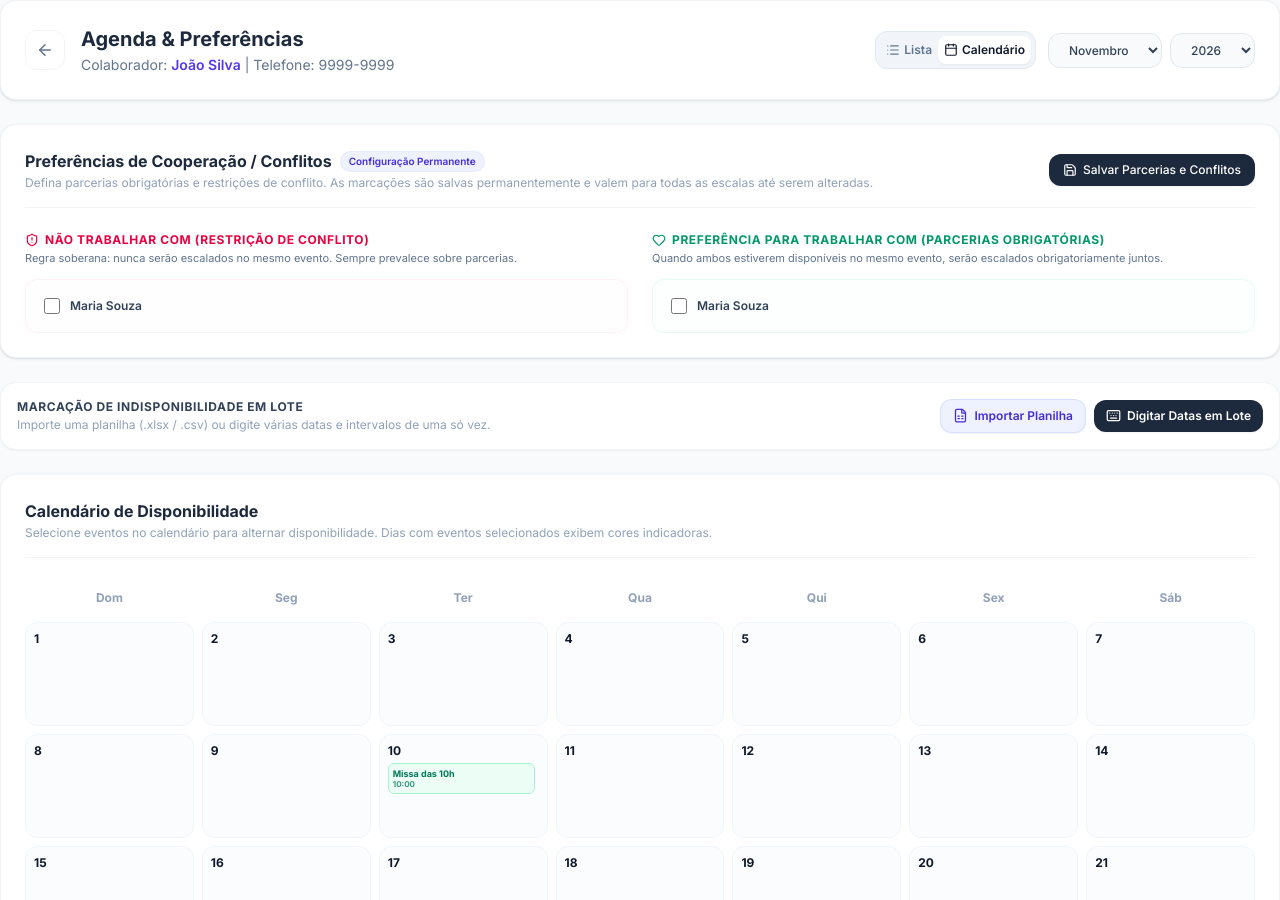
DisponibilidadeColaborador Component › deve permitir cancelar o modal de lote sem alterar as indisponibilidades
This screenshot has width=1280, height=900.
Step 1. Click the button "Digitar Datas em Lote" → (1178, 416), box [1094,400,1263,432]
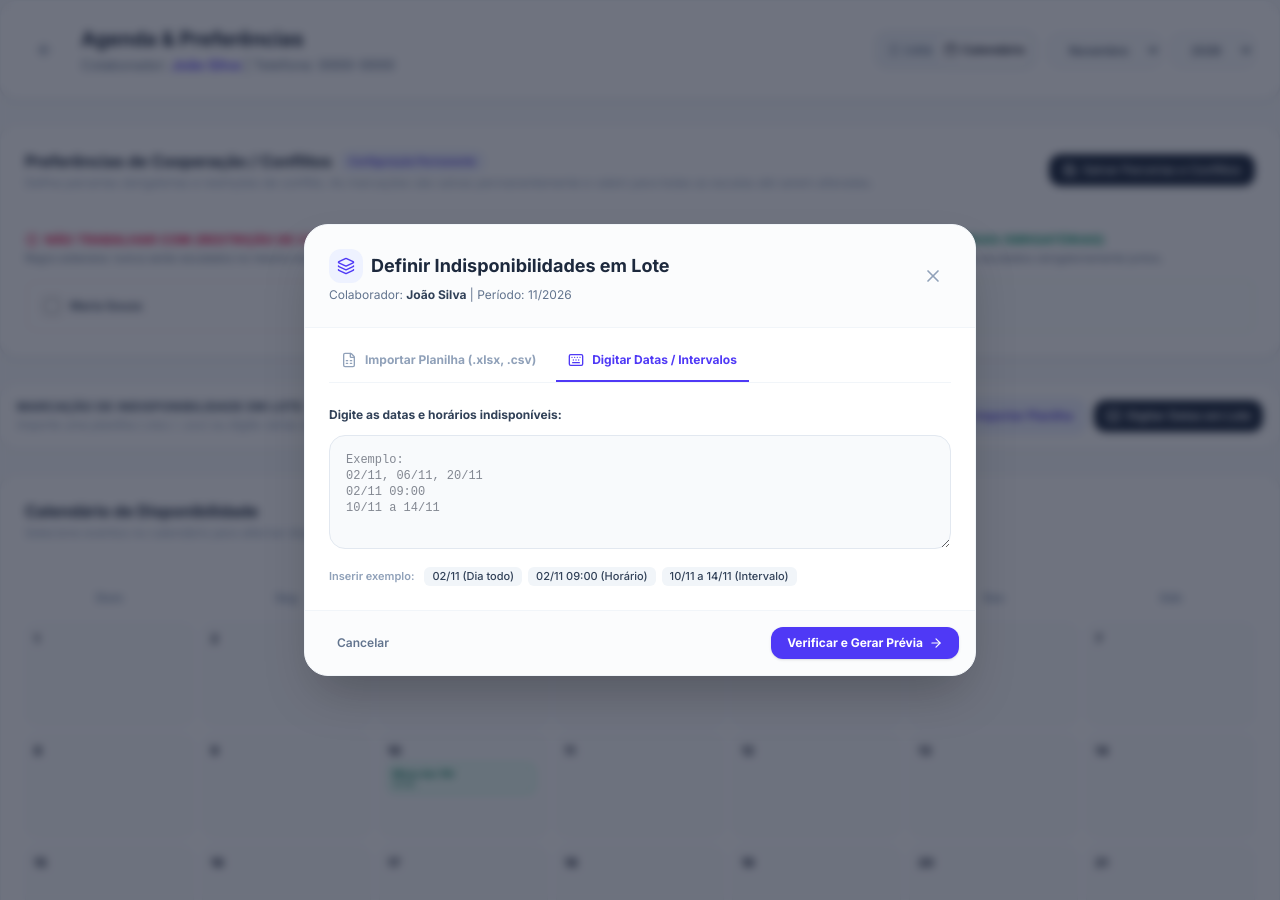
Step 2. Click the button with test id "modal-lote-cancelar" → (363, 643), box [321,627,405,659]
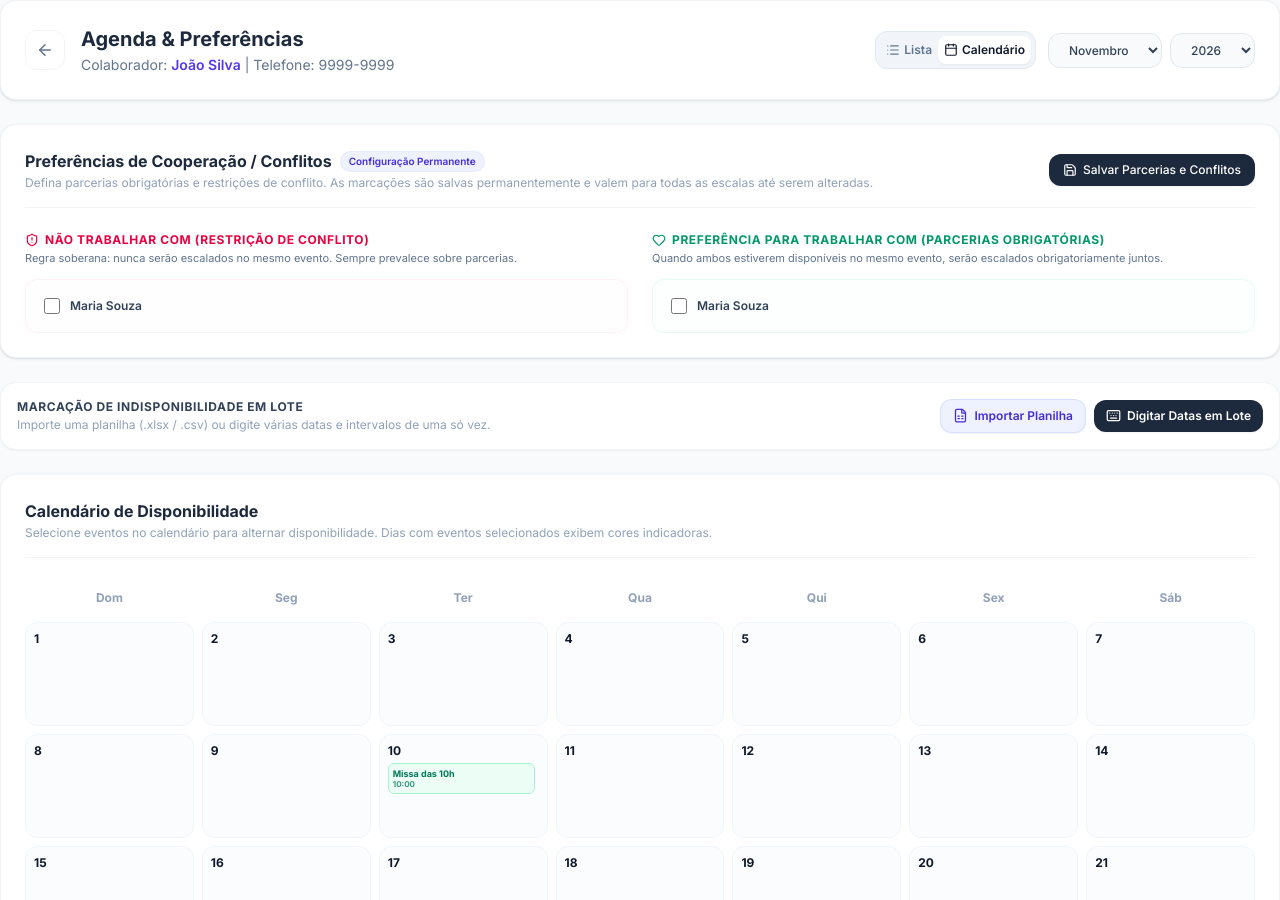
Check: the heading "Definir Indisponibilidades em Lote" is gone
